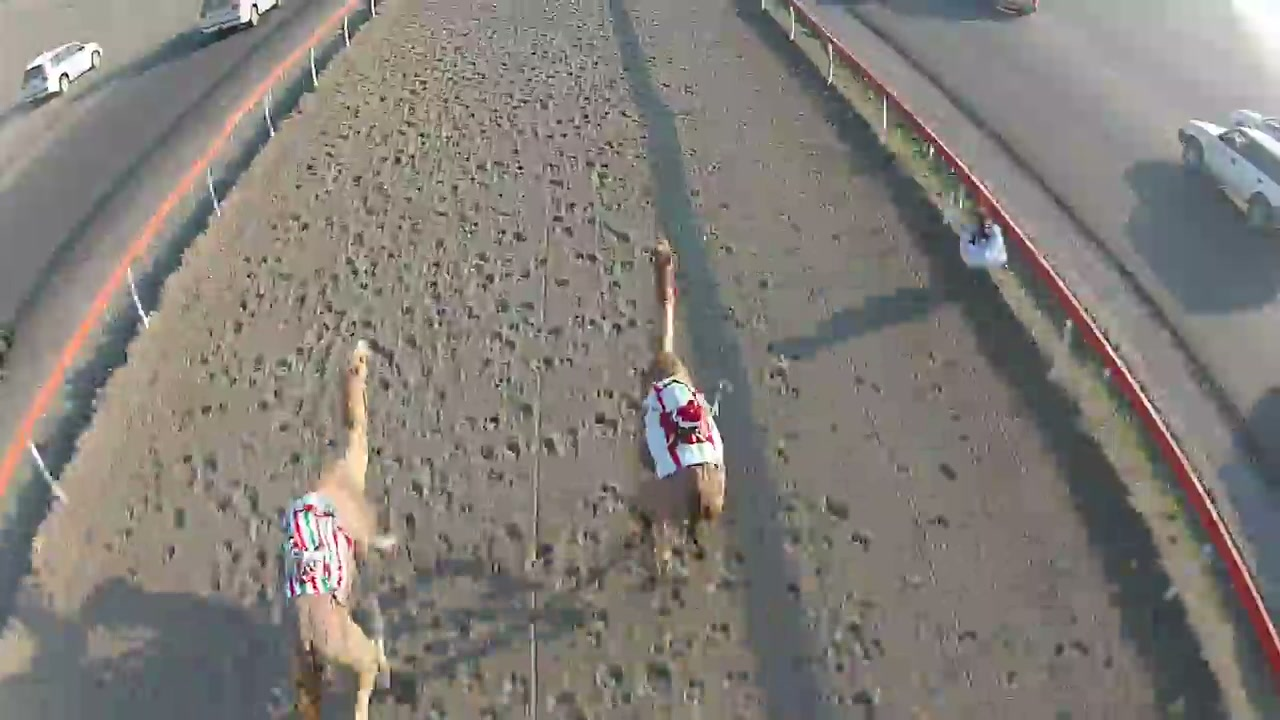animal_foot_print: (371, 56, 611, 702), (530, 29, 648, 378)
